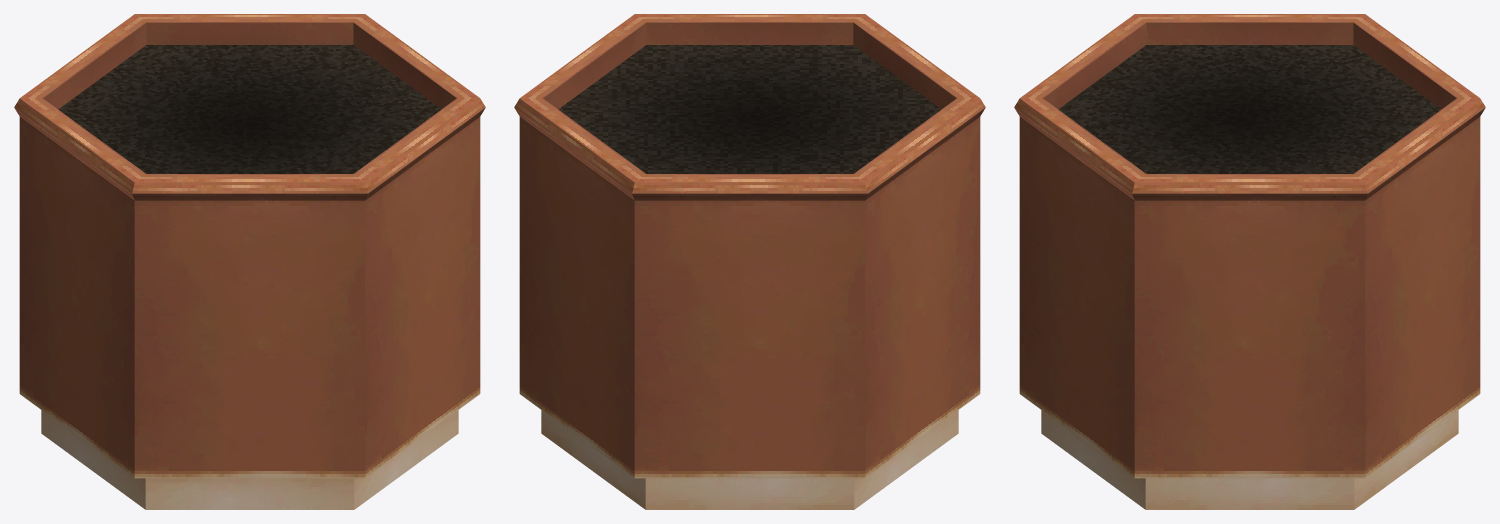
The model's file is pot4.glb.
3 renders of one model, left to right at view 1: azimuth 30°, elevation 25°; view 2: azimuth 150°, elevation 25°; view 3: azimuth 270°, elevation 25°, orthographic.
Parts seen in each view (by area): view 1: pot4; view 2: pot4; view 3: pot4.
Part boxes in pixels (<box>): pot4: <box>14,14,485,509</box>; pot4: <box>514,14,985,509</box>; pot4: <box>1014,14,1485,509</box>.
Size of the model in its own units: 0.2939 by 0.2662 by 0.3393.
Materials: 1 (1 with a texture image).
